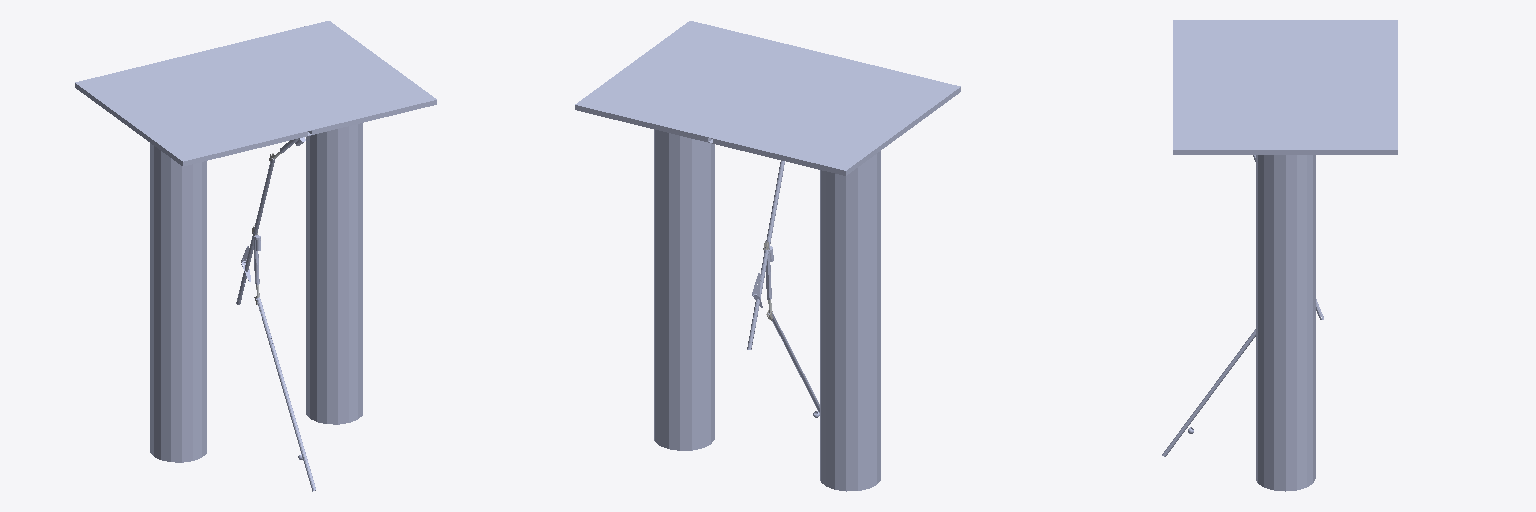
robot.urdf — roboact_leg:
<?xml version="1.0" encoding="utf-8"?>
<!-- This URDF was automatically created by SolidWorks to URDF Exporter! Originally created by [author] ([email redacted]) 
     Commit Version: 1.6.0-4-g7f85cfe  Build Version: 1.6.7995.38578
     For more information, please see http://wiki.ros.org/sw_urdf_exporter -->
<robot
  name="roboact_leg">
  <link
    name="chassis">
    <inertial>
      <origin
        xyz="0.00468211118343997 8.02074076933224E-07 1.44345016779328"
        rpy="0 0 0" />
      <mass
        value="760.637011705538" />
      <inertia
        ixx="548.979952619106"
        ixy="2.95724528472525E-06"
        ixz="0.701083071392355"
        iyy="819.608093662225"
        iyz="-0.000664489681847512"
        izz="326.652818866655" />
    </inertial>
    <visual>
      <origin
        xyz="0 0 0"
        rpy="0 0 0" />
      <geometry>
        <mesh
          filename="package://roboact_leg/meshes/chassis.STL" />
      </geometry>
      <material
        name="">
        <color
          rgba="0.792156862745098 0.819607843137255 0.933333333333333 1" />
      </material>
    </visual>
    <collision>
      <origin
        xyz="0 0 0"
        rpy="0 0 0" />
      <geometry>
        <mesh
          filename="package://roboact_leg/meshes/chassis.STL" />
      </geometry>
    </collision>
  </link>
  <link
    name="hinge_UU">
    <inertial>
      <origin
        xyz="-0.000588001226960122 -0.0538797737282957 0.00407758217854962"
        rpy="0 0 0" />
      <mass
        value="0.012407502121637" />
      <inertia
        ixx="2.1547530224452E-05"
        ixy="4.08560226229756E-09"
        ixz="3.50399838538868E-11"
        iyy="2.48420344050443E-06"
        iyz="4.3882648942814E-07"
        izz="2.39156461358395E-05" />
    </inertial>
    <visual>
      <origin
        xyz="0 0 0"
        rpy="0 0 0" />
      <geometry>
        <mesh
          filename="package://roboact_leg/meshes/hinge_UU.STL" />
      </geometry>
      <material
        name="">
        <color
          rgba="0.792156862745098 0.819607843137255 0.933333333333333 1" />
      </material>
    </visual>
    <collision>
      <origin
        xyz="0 0 0"
        rpy="0 0 0" />
      <geometry>
        <mesh
          filename="package://roboact_leg/meshes/hinge_UU.STL" />
      </geometry>
    </collision>
  </link>
  <joint
    name="hinge_UU_j"
    type="fixed">
    <origin
      xyz="0.000591115875000159 -0.336809806641101 2.52518148974062"
      rpy="0 0 0" />
    <parent
      link="chassis" />
    <child
      link="hinge_UU" />
    <axis
      xyz="0 0 0" />
  </joint>
  <link
    name="hinge_UL">
    <inertial>
      <origin
        xyz="-0.000350068636117667 0.0187349879184173 -0.0407234626928347"
        rpy="0 0 0" />
      <mass
        value="0.0149562489565382" />
      <inertia
        ixx="2.77383053237887E-05"
        ixy="6.53538296214584E-08"
        ixz="-1.4129517995376E-07"
        iyy="2.61494686866994E-05"
        iyz="9.67139193493285E-06"
        izz="6.47198136297425E-06" />
    </inertial>
    <visual>
      <origin
        xyz="0 0 0"
        rpy="0 0 0" />
      <geometry>
        <mesh
          filename="package://roboact_leg/meshes/hinge_UL.STL" />
      </geometry>
      <material
        name="">
        <color
          rgba="0.792156862745098 0.819607843137255 0.933333333333333 1" />
      </material>
    </visual>
    <collision>
      <origin
        xyz="0 0 0"
        rpy="0 0 0" />
      <geometry>
        <mesh
          filename="package://roboact_leg/meshes/hinge_UL.STL" />
      </geometry>
    </collision>
  </link>
  <joint
    name="hinge_UL_j"
    type="revolute">
    <origin
      xyz="0 0 0"
      rpy="0 0 0" />
    <parent
      link="hinge_UU" />
    <child
      link="hinge_UL" />
    <axis
      xyz="1 0 0" />
    <limit
      lower="-0.349"
      upper="0.349"
      effort="100"
      velocity="2" />
  </joint>
  <link
    name="tube_upper">
    <inertial>
      <origin
        xyz="1.39309443702995E-08 -0.000642623368307782 0.00173034700918639"
        rpy="0 0 0" />
      <mass
        value="0.182771131041887" />
      <inertia
        ixx="0.0288040348348784"
        ixy="1.02559628761009E-10"
        ixz="9.55764880673073E-10"
        iyy="0.0253156864476513"
        iyz="0.00938951251460784"
        izz="0.00352488883961336" />
    </inertial>
    <visual>
      <origin
        xyz="0 0 0"
        rpy="0 0 0" />
      <geometry>
        <mesh
          filename="package://roboact_leg/meshes/tube_upper.STL" />
      </geometry>
      <material
        name="">
        <color
          rgba="0.792156862745098 0.819607843137255 0.933333333333333 1" />
      </material>
    </visual>
    <collision>
      <origin
        xyz="0 0 0"
        rpy="0 0 0" />
      <geometry>
        <mesh
          filename="package://roboact_leg/meshes/tube_upper.STL" />
      </geometry>
    </collision>
  </link>
  <joint
    name="tube_upper_j"
    type="fixed">
    <origin
      xyz="-0.00059009 0.25204 -0.66064"
      rpy="0 0 0" />
    <parent
      link="hinge_UL" />
    <child
      link="tube_upper" />
    <axis
      xyz="0 0 0" />
  </joint>
  <link
    name="hinge_LU">
    <inertial>
      <origin
        xyz="-0.000588084340786416 -0.0149379000005745 0.0519264306817586"
        rpy="0 0 0" />
      <mass
        value="0.0124080543656935" />
      <inertia
        ixx="2.15480311497025E-05"
        ixy="1.42460075631874E-09"
        ixz="-3.74261469267327E-09"
        iyy="2.16045137326289E-05"
        iyz="6.66316689173819E-06"
        izz="4.79656409042024E-06" />
    </inertial>
    <visual>
      <origin
        xyz="0 0 0"
        rpy="0 0 0" />
      <geometry>
        <mesh
          filename="package://roboact_leg/meshes/hinge_LU.STL" />
      </geometry>
      <material
        name="">
        <color
          rgba="0.792156862745098 0.819607843137255 0.933333333333333 1" />
      </material>
    </visual>
    <collision>
      <origin
        xyz="0 0 0"
        rpy="0 0 0" />
      <geometry>
        <mesh
          filename="package://roboact_leg/meshes/hinge_LU.STL" />
      </geometry>
    </collision>
  </link>
  <joint
    name="hinge_LU_j"
    type="fixed">
    <origin
      xyz="0.000589745875000963 0.240357925630607 -0.664980149220171"
      rpy="0 0 0" />
    <parent
      link="tube_upper" />
    <child
      link="hinge_LU" />
    <axis
      xyz="0 0 0" />
  </joint>
  <link
    name="hinge_LL">
    <inertial>
      <origin
        xyz="-0.00034916233147278 -0.0222211447986073 -0.0389713358298078"
        rpy="0 0 0" />
      <mass
        value="0.0149300118627514" />
      <inertia
        ixx="2.77317575100477E-05"
        ixy="-7.69471635965847E-08"
        ixz="-1.35726947664152E-07"
        iyy="2.22963747944028E-05"
        iyz="-1.24251026830733E-05"
        izz="1.03187743356261E-05" />
    </inertial>
    <visual>
      <origin
        xyz="0 0 0"
        rpy="0 0 0" />
      <geometry>
        <mesh
          filename="package://roboact_leg/meshes/hinge_LL.STL" />
      </geometry>
      <material
        name="">
        <color
          rgba="0.792156862745098 0.819607843137255 0.933333333333333 1" />
      </material>
    </visual>
    <collision>
      <origin
        xyz="0 0 0"
        rpy="0 0 0" />
      <geometry>
        <mesh
          filename="package://roboact_leg/meshes/hinge_LL.STL" />
      </geometry>
    </collision>
  </link>
  <joint
    name="hinge_LL_j"
    type="revolute">
    <origin
      xyz="0 0 0"
      rpy="0 0 0" />
    <parent
      link="hinge_LU" />
    <child
      link="hinge_LL" />
    <axis
      xyz="-1 0 0" />
    <limit
      lower="-0.349"
      upper="0.349"
      effort="100"
      velocity="2" />
  </joint>
  <link
    name="tube_lower">
    <inertial>
      <origin
        xyz="-1.46219123198232E-08 -0.00513048443544779 -0.00759988268326572"
        rpy="0 0 0" />
      <mass
        value="0.185067675197675" />
      <inertia
        ixx="0.0297078291872775"
        ixy="1.92332160492431E-09"
        ixz="-3.37902685499835E-10"
        iyy="0.0204240923383549"
        iyz="-0.0137570481564353"
        izz="0.00932114604754084" />
    </inertial>
    <visual>
      <origin
        xyz="0 0 0"
        rpy="0 0 0" />
      <geometry>
        <mesh
          filename="package://roboact_leg/meshes/tube_lower.STL" />
      </geometry>
      <material
        name="">
        <color
          rgba="0.792156862745098 0.819607843137255 0.933333333333333 1" />
      </material>
    </visual>
    <collision>
      <origin
        xyz="0 0 0"
        rpy="0 0 0" />
      <geometry>
        <mesh
          filename="package://roboact_leg/meshes/tube_lower.STL" />
      </geometry>
    </collision>
  </link>
  <joint
    name="tube_lower_j"
    type="fixed">
    <origin
      xyz="-0.00059077 -0.39035 -0.58958"
      rpy="0 0 0" />
    <parent
      link="hinge_LL" />
    <child
      link="tube_lower" />
    <axis
      xyz="0 0 0" />
  </joint>
  <link
    name="leg support ">
    <inertial>
      <origin
        xyz="-1.33226762955019E-15 -4.92225279942193E-05 -7.29412373163818E-05"
        rpy="0 0 0" />
      <mass
        value="0.00526659250823866" />
      <inertia
        ixx="1.57167590827307E-06"
        ixy="6.98764716172858E-23"
        ixz="1.03549426819276E-22"
        iyy="1.66436600986042E-06"
        iyz="1.37354397942886E-07"
        izz="1.77521685073794E-06" />
    </inertial>
    <visual>
      <origin
        xyz="0 0 0"
        rpy="0 0 0" />
      <geometry>
        <mesh
          filename="package://roboact_leg/meshes/leg support .STL" />
      </geometry>
      <material
        name="">
        <color
          rgba="0.792156862745098 0.819607843137255 0.933333333333333 1" />
      </material>
    </visual>
    <collision>
      <origin
        xyz="0 0 0"
        rpy="0 0 0" />
      <geometry>
        <mesh
          filename="package://roboact_leg/meshes/leg support .STL" />
      </geometry>
    </collision>
  </link>
  <joint
    name="leg support _j"
    type="fixed">
    <origin
      xyz="0 -0.398049308609462 -0.589856114075886"
      rpy="0 0 0" />
    <parent
      link="tube_lower" />
    <child
      link="leg support " />
    <axis
      xyz="0 0 0" />
  </joint>
  <link
    name="bracket_LU">
    <inertial>
      <origin
        xyz="-6.38378239159465E-16 0.0145342780983785 0.0256538633585248"
        rpy="0 0 0" />
      <mass
        value="0.0137645141673134" />
      <inertia
        ixx="5.48133005963988E-06"
        ixy="1.46861366922931E-20"
        ixz="2.141050914247E-21"
        iyy="5.57839537963981E-06"
        iyz="-8.71254324263437E-08"
        izz="3.11700050501505E-06" />
    </inertial>
    <visual>
      <origin
        xyz="0 0 0"
        rpy="0 0 0" />
      <geometry>
        <mesh
          filename="package://roboact_leg/meshes/bracket_LU.STL" />
      </geometry>
      <material
        name="">
        <color
          rgba="0.749019607843137 0.749019607843137 0.749019607843137 1" />
      </material>
    </visual>
    <collision>
      <origin
        xyz="0 0 0"
        rpy="0 0 0" />
      <geometry>
        <mesh
          filename="package://roboact_leg/meshes/bracket_LU.STL" />
      </geometry>
    </collision>
  </link>
  <joint
    name="bracket_LU_j"
    type="fixed">
    <origin
      xyz="0 0.0892451996323692 -0.393339833150145"
      rpy="0 0 0" />
    <parent
      link="tube_upper" />
    <child
      link="bracket_LU" />
    <axis
      xyz="0 0 0" />
  </joint>
  <link
    name="lin_body_lower">
    <inertial>
      <origin
        xyz="-1.02695629777827E-15 0.00656356022373905 0.208952177753618"
        rpy="0 0 0" />
      <mass
        value="0.309022347011418" />
      <inertia
        ixx="0.00364750605295864"
        ixy="3.24720813590398E-20"
        ixz="-1.56419225215619E-18"
        iyy="0.00356583995917527"
        iyz="8.11035474465104E-05"
        izz="0.00013212216603784" />
    </inertial>
    <visual>
      <origin
        xyz="0 0 0"
        rpy="0 0 0" />
      <geometry>
        <mesh
          filename="package://roboact_leg/meshes/lin_body_lower.STL" />
      </geometry>
      <material
        name="">
        <color
          rgba="0.792156862745098 0.819607843137255 0.933333333333333 1" />
      </material>
    </visual>
    <collision>
      <origin
        xyz="0 0 0"
        rpy="0 0 0" />
      <geometry>
        <mesh
          filename="package://roboact_leg/meshes/lin_body_lower.STL" />
      </geometry>
    </collision>
  </link>
  <joint
    name="lin_body_lower_j"
    type="revolute">
    <origin
      xyz="0 -0.025528 -0.33557"
      rpy="0 0 0" />
    <parent
      link="bracket_LU" />
    <child
      link="lin_body_lower" />
    <axis
      xyz="1 0 0" />
    <limit
      lower="-0.349"
      upper="0.349"
      effort="1"
      velocity="2" />
  </joint>
  <link
    name="lin_rod_lower">
    <inertial>
      <origin
        xyz="4.77762477635313E-08 6.4424807060981E-05 0.000846808552730005"
        rpy="0 0 0" />
      <mass
        value="0.0845778414790866" />
      <inertia
        ixx="0.000513880116052908"
        ixy="1.08360651886023E-11"
        ixz="-6.87935177605734E-13"
        iyy="0.00051093062361553"
        iyz="-3.85467805075483E-05"
        izz="7.1698309857688E-06" />
    </inertial>
    <visual>
      <origin
        xyz="0 0 0"
        rpy="0 0 0" />
      <geometry>
        <mesh
          filename="package://roboact_leg/meshes/lin_rod_lower.STL" />
      </geometry>
      <material
        name="">
        <color
          rgba="0.894117647058823 0.913725490196078 0.929411764705882 1" />
      </material>
    </visual>
    <collision>
      <origin
        xyz="0 0 0"
        rpy="0 0 0" />
      <geometry>
        <mesh
          filename="package://roboact_leg/meshes/lin_rod_lower.STL" />
      </geometry>
    </collision>
  </link>
  <joint
    name="lin_rod_lower_j"
    type="prismatic">
    <origin
      xyz="0 0 0"
      rpy="0 0 0" />
    <parent
      link="lin_body_lower" />
    <child
      link="lin_rod_lower" />
    <axis
      xyz="0 0.0758149323900039 0.997121906301681" />
    <limit
      lower="-0.09"
      upper="0.09"
      effort="1600"
      velocity="0.0057" />
  </joint>
  <link
    name="bracket_LL">
    <inertial>
      <origin
        xyz="-5.27355936696949E-16 0.00824557874831927 -0.0283965446018986"
        rpy="0 0 0" />
      <mass
        value="0.0139347492192297" />
      <inertia
        ixx="5.50182772901169E-06"
        ixy="8.63161632025279E-22"
        ixz="1.38111278709474E-21"
        iyy="5.47487579704763E-06"
        iyz="-4.72699576103246E-07"
        izz="3.24255519229164E-06" />
    </inertial>
    <visual>
      <origin
        xyz="0 0 0"
        rpy="0 0 0" />
      <geometry>
        <mesh
          filename="package://roboact_leg/meshes/bracket_LL.STL" />
      </geometry>
      <material
        name="">
        <color
          rgba="0.749019607843137 0.749019607843137 0.749019607843137 1" />
      </material>
    </visual>
    <collision>
      <origin
        xyz="0 0 0"
        rpy="0 0 0" />
      <geometry>
        <mesh
          filename="package://roboact_leg/meshes/bracket_LL.STL" />
      </geometry>
    </collision>
  </link>
  <joint
    name="bracket_LL_j"
    type="revolute">
    <origin
      xyz="0 -0.00974749495151644 -0.128129763685767"
      rpy="0 0 0" />
    <parent
      link="lin_rod_lower" />
    <child
      link="bracket_LL" />
    <axis
      xyz="-1 0 0" />
    <limit
      lower="-0.349"
      upper="0.349"
      effort="1"
      velocity="2" />
  </joint>
  <link
    name="tube_bracket_L">
    <inertial>
      <origin
        xyz="-1.46219123475788E-08 -0.00513048443544779 -0.00759988268326572"
        rpy="0 0 0" />
      <mass
        value="0.185067675197675" />
      <inertia
        ixx="0.0297078291872775"
        ixy="1.92332160492432E-09"
        ixz="-3.37902685499835E-10"
        iyy="0.0204240923383549"
        iyz="-0.0137570481564353"
        izz="0.00932114604754083" />
    </inertial>
    <visual>
      <origin
        xyz="0 0 0"
        rpy="0 0 0" />
      <geometry>
        <mesh
          filename="package://roboact_leg/meshes/tube_bracket_L.STL" />
      </geometry>
      <material
        name="">
        <color
          rgba="0.792156862745098 0.819607843137255 0.933333333333333 1" />
      </material>
    </visual>
    <collision>
      <origin
        xyz="0 0 0"
        rpy="0 0 0" />
      <geometry>
        <mesh
          filename="package://roboact_leg/meshes/tube_bracket_L.STL" />
      </geometry>
    </collision>
  </link>
  <joint
    name="tube_bracket_L_j"
    type="fixed">
    <origin
      xyz="-0.00059077 -0.39035 -0.58958"
      rpy="0 0 0" />
    <parent
      link="bracket_LL" />
    <child
      link="tube_bracket_L" />
    <axis
      xyz="0 0 0" />
  </joint>
  <link
    name="bracket_UU">
    <inertial>
      <origin
        xyz="0 -0.0189596464258239 0.0227384747054926"
        rpy="0 0 0" />
      <mass
        value="0.013955365921019" />
      <inertia
        ixx="5.51624030349116E-06"
        ixy="-1.06789253406699E-21"
        ixz="9.57862934234035E-22"
        iyy="3.50642300774646E-06"
        iyz="8.64313890009255E-07"
        izz="5.22581549476594E-06" />
    </inertial>
    <visual>
      <origin
        xyz="0 0 0"
        rpy="0 0 0" />
      <geometry>
        <mesh
          filename="package://roboact_leg/meshes/bracket_UU.STL" />
      </geometry>
      <material
        name="">
        <color
          rgba="0.749019607843137 0.749019607843137 0.749019607843137 1" />
      </material>
    </visual>
    <collision>
      <origin
        xyz="0 0 0"
        rpy="0 0 0" />
      <geometry>
        <mesh
          filename="package://roboact_leg/meshes/bracket_UU.STL" />
      </geometry>
    </collision>
  </link>
  <joint
    name="bracket_UU_j"
    type="fixed">
    <origin
      xyz="0 -0.6383 2.49365"
      rpy="0 0 0" />
    <parent
      link="chassis" />
    <child
      link="bracket_UU" />
    <axis
      xyz="0 0 0" />
  </joint>
  <link
    name="lin_body_upper">
    <inertial>
      <origin
        xyz="-2.77555756156289E-17 -0.19934176736935 0.159831830732938"
        rpy="0 0 0" />
      <mass
        value="0.309022347011418" />
      <inertia
        ixx="0.00364750605295864"
        ixy="-2.11738895756133E-19"
        ixz="1.42323277793304E-19"
        iyy="0.00126716531680485"
        iyz="0.00161730414396079"
        izz="0.00243079680840826" />
    </inertial>
    <visual>
      <origin
        xyz="0 0 0"
        rpy="0 0 0" />
      <geometry>
        <mesh
          filename="package://roboact_leg/meshes/lin_body_upper.STL" />
      </geometry>
      <material
        name="">
        <color
          rgba="0.792156862745098 0.819607843137255 0.933333333333333 1" />
      </material>
    </visual>
    <collision>
      <origin
        xyz="0 0 0"
        rpy="0 0 0" />
      <geometry>
        <mesh
          filename="package://roboact_leg/meshes/lin_body_upper.STL" />
      </geometry>
    </collision>
  </link>
  <joint
    name="lin_body_upper_j"
    type="revolute">
    <origin
      xyz="0 0.2899 -0.25033"
      rpy="0 0 0" />
    <parent
      link="bracket_UU" />
    <child
      link="lin_body_upper" />
    <axis
      xyz="0 -0.75688 0.65355" />
    <limit
      lower="-0.349"
      upper="0.349"
      effort="1"
      velocity="2" />
  </joint>
  <link
    name="lin_rod_upper">
    <inertial>
      <origin
        xyz="-4.77762488459987E-08 -0.000642790213382455 0.000555027947377912"
        rpy="0 0 0" />
      <mass
        value="0.0845778414790875" />
      <inertia
        ixx="0.000513880116052915"
        ixy="7.19856320591277E-12"
        ixz="8.12860696860823E-12"
        iyy="0.000221912312218047"
        iyz="0.000252091974482643"
        izz="0.000296188142383259" />
    </inertial>
    <visual>
      <origin
        xyz="0 0 0"
        rpy="0 0 0" />
      <geometry>
        <mesh
          filename="package://roboact_leg/meshes/lin_rod_upper.STL" />
      </geometry>
      <material
        name="">
        <color
          rgba="0.894117647058823 0.913725490196078 0.929411764705882 1" />
      </material>
    </visual>
    <collision>
      <origin
        xyz="0 0 0"
        rpy="0 0 0" />
      <geometry>
        <mesh
          filename="package://roboact_leg/meshes/lin_rod_upper.STL" />
      </geometry>
    </collision>
  </link>
  <joint
    name="lin_rod_upper_j"
    type="prismatic">
    <origin
      xyz="0 0 0"
      rpy="0 0 0" />
    <parent
      link="lin_body_upper" />
    <child
      link="lin_rod_upper" />
    <axis
      xyz="0 -0.756883692614432 0.653549597088348" />
    <limit
      lower="-0.09"
      upper="0.09"
      effort="1600"
      velocity="0.0057" />
  </joint>
  <link
    name="bracket_UL">
    <inertial>
      <origin
        xyz="-1.97064586870965E-15 0.0279172394131972 -0.00985566679982525"
        rpy="0 0 0" />
      <mass
        value="0.013955365921019" />
      <inertia
        ixx="5.51624030349116E-06"
        ixy="-4.62688919284922E-22"
        ixz="8.72926540149206E-23"
        iyy="4.45311391975747E-06"
        iyz="1.21595561564559E-06"
        izz="4.27912458275493E-06" />
    </inertial>
    <visual>
      <origin
        xyz="0 0 0"
        rpy="0 0 0" />
      <geometry>
        <mesh
          filename="package://roboact_leg/meshes/bracket_UL.STL" />
      </geometry>
      <material
        name="">
        <color
          rgba="0.749019607843137 0.749019607843137 0.749019607843137 1" />
      </material>
    </visual>
    <collision>
      <origin
        xyz="0 0 0"
        rpy="0 0 0" />
      <geometry>
        <mesh
          filename="package://roboact_leg/meshes/bracket_UL.STL" />
      </geometry>
    </collision>
  </link>
  <joint
    name="bracket_UL_j"
    type="revolute">
    <origin
      xyz="0 0.0972595545009517 -0.083981123225856"
      rpy="0 0 0" />
    <parent
      link="lin_rod_upper" />
    <child
      link="bracket_UL" />
    <axis
      xyz="1 0 0" />
    <limit
      lower="0"
      upper="0"
      effort="0"
      velocity="0" />
  </joint>
  <link
    name="Tube_bracket_U">
    <inertial>
      <origin
        xyz="1.39309443702995E-08 -0.00064262336830781 0.00173034700918651"
        rpy="0 0 0" />
      <mass
        value="0.182771131041887" />
      <inertia
        ixx="0.0288040348348784"
        ixy="1.02559628760336E-10"
        ixz="9.55764880672765E-10"
        iyy="0.0253156864476513"
        iyz="0.00938951251460784"
        izz="0.00352488883961336" />
    </inertial>
    <visual>
      <origin
        xyz="0 0 0"
        rpy="0 0 0" />
      <geometry>
        <mesh
          filename="package://roboact_leg/meshes/Tube_bracket_U.STL" />
      </geometry>
      <material
        name="">
        <color
          rgba="0.792156862745098 0.819607843137255 0.933333333333333 1" />
      </material>
    </visual>
    <collision>
      <origin
        xyz="0 0 0"
        rpy="0 0 0" />
      <geometry>
        <mesh
          filename="package://roboact_leg/meshes/Tube_bracket_U.STL" />
      </geometry>
    </collision>
  </link>
  <joint
    name="tube_bracket_U_j"
    type="fixed">
    <origin
      xyz="-0.00059009 0.25204 -0.66064"
      rpy="0 0 0" />
    <parent
      link="bracket_UL" />
    <child
      link="Tube_bracket_U" />
    <axis
      xyz="0 0 0" />
  </joint>
</robot>

--- Render facts (derived) ---
3 views of the same robot in one strip: view 1: azimuth 30°, elevation 25°; view 2: azimuth 150°, elevation 25°; view 3: azimuth 270°, elevation 25° (orthographic).
Robot: roboact_leg — 18 links, 17 joints (6 revolute, 2 prismatic, 9 fixed); root link chassis; default pose: all joints at 0.
Visible links, largest first — view 1: chassis, tube_bracket_L, Tube_bracket_U; view 2: chassis, Tube_bracket_U; view 3: chassis, tube_bracket_L.
Link boxes in pixels (x1=…): chassis: x1=75, y1=21, x2=436, y2=462; tube_bracket_L: x1=256, y1=297, x2=315, y2=491; Tube_bracket_U: x1=236, y1=158, x2=274, y2=304; chassis: x1=575, y1=21, x2=960, y2=491; Tube_bracket_U: x1=747, y1=161, x2=784, y2=349; chassis: x1=1173, y1=20, x2=1397, y2=491; tube_bracket_L: x1=1162, y1=329, x2=1255, y2=456.
Size in the robot's own frame: 2.04 by 1.58 by 2.74 metres.
16 mesh visuals loaded from 18 distinct referenced files (16 binary STL); not drawn: 2 (reference not matched to a file when rendering).